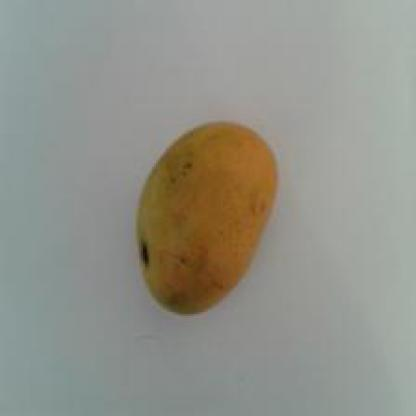mango: (130, 117, 283, 318)
